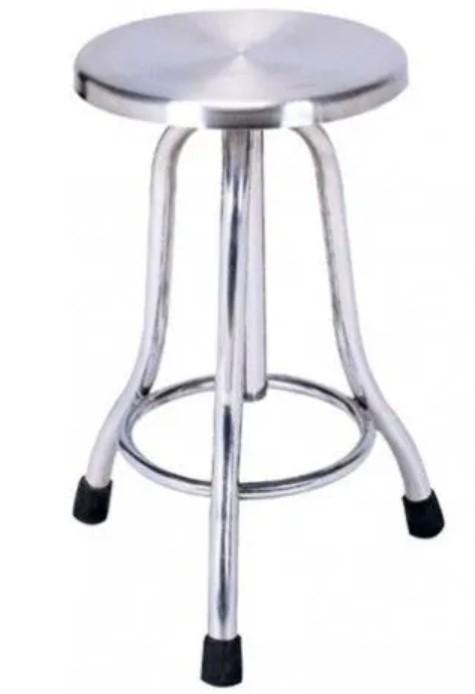stool: (70, 7, 445, 685)
